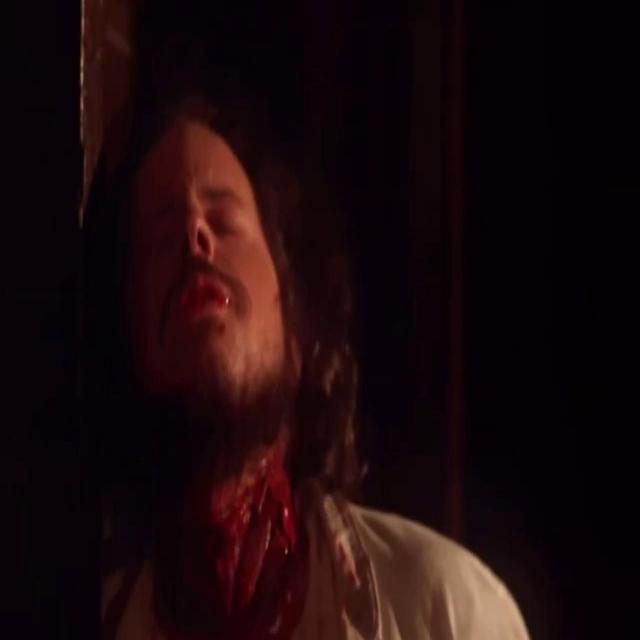flood: (163, 436, 341, 640)
